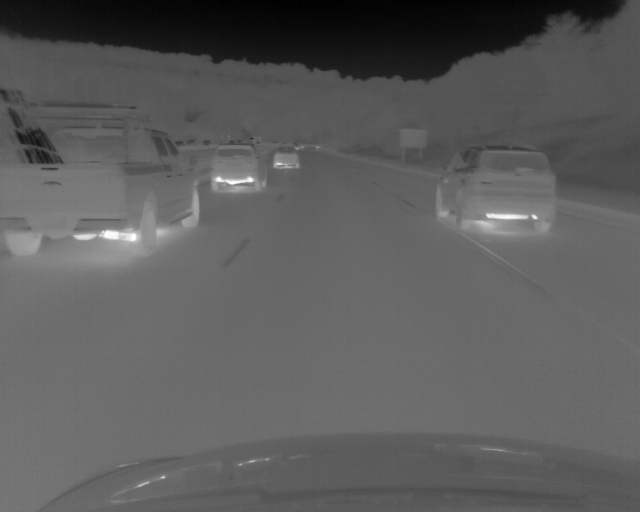car: (1, 99, 197, 253), (432, 143, 558, 235), (211, 143, 268, 192), (273, 144, 302, 169)
